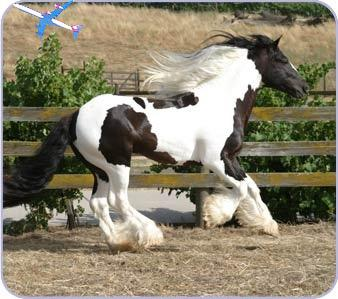tampered: (14, 1, 83, 39)
